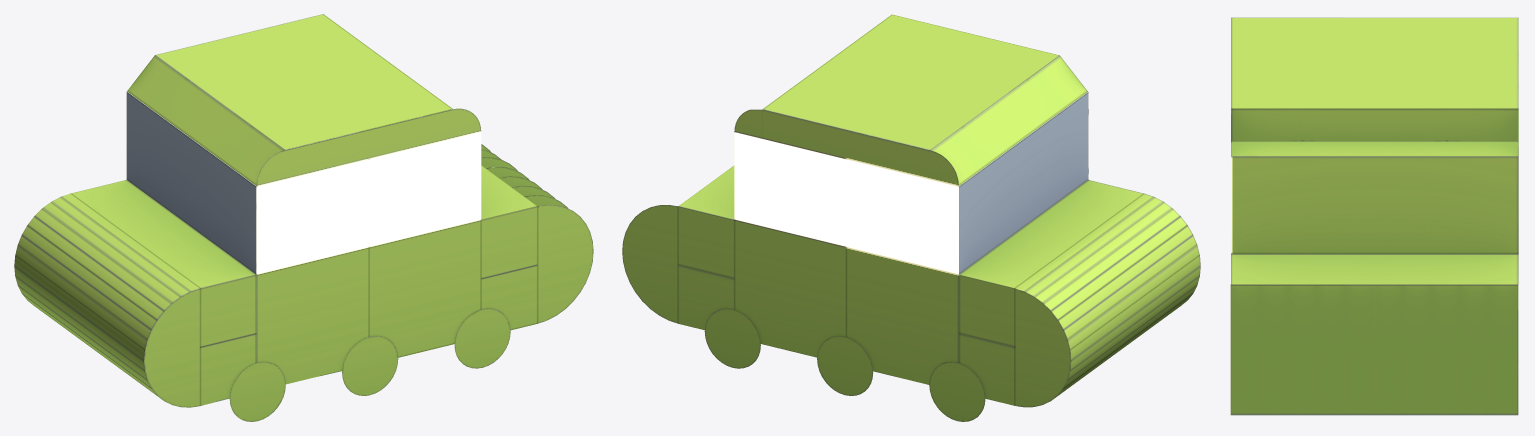
The model's file is auto_ine.glb.
The picture shows the model from 3 angles, left to right: view 1: azimuth 30°, elevation 25°; view 2: azimuth 150°, elevation 25°; view 3: azimuth 270°, elevation 25°; orthographic projection. The views are drawn at different scales.
Visible parts, largest first — view 1: auto; view 2: auto; view 3: auto.
Part boxes in pixels (box(x1,y1,x2,y2)): auto: box(14, 14, 593, 421); auto: box(622, 14, 1200, 421); auto: box(1230, 17, 1518, 415).
Size of the model in its own units: 0.8013 by 0.4509 by 0.4053.
1 material, 1 textured.
